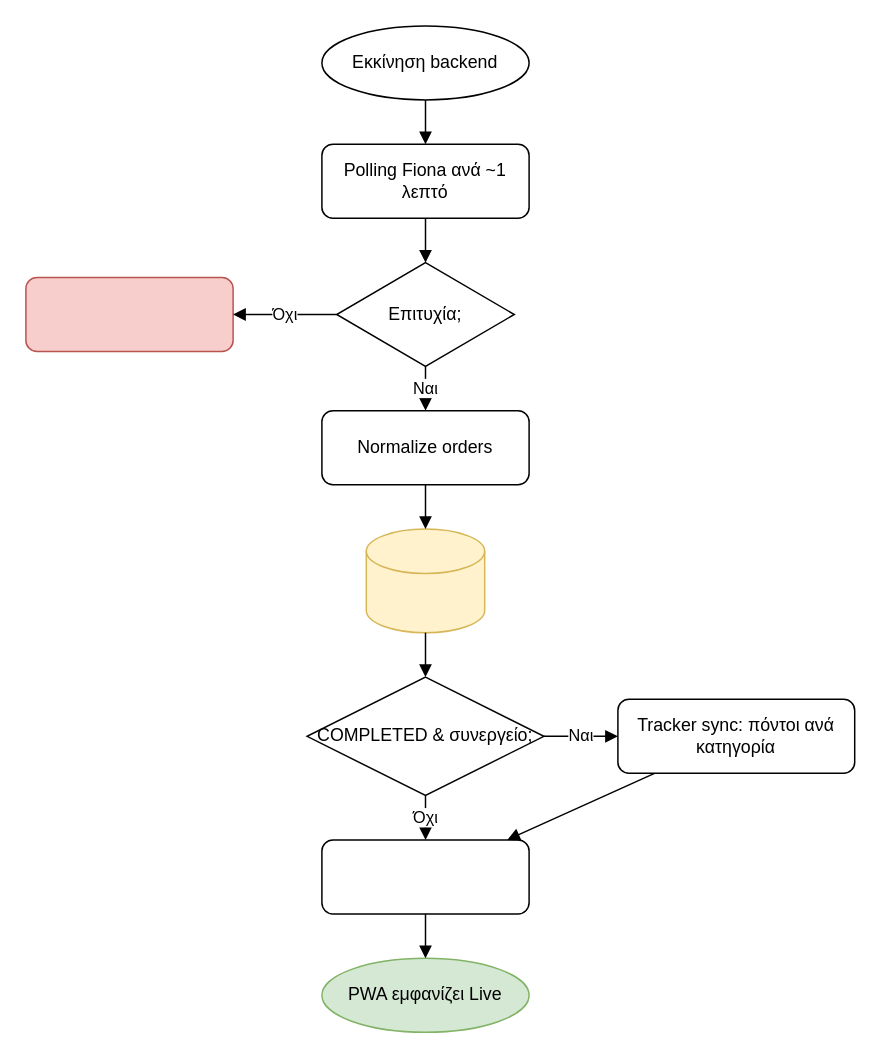
The diagram is 881 pixels wide and 1058 high, and some of its shapes have lost their labels. The shapes that lost their labels are listed below. From the top down, each one's box as (x1, y1, x2, y2) in pixels, then its label:
(24, 276, 233, 352): Stale / Offline ένδειξη
(365, 528, 485, 633): Αποθήκευση SQLite
(320, 838, 529, 914): Εμφάνιση στη λίστα
